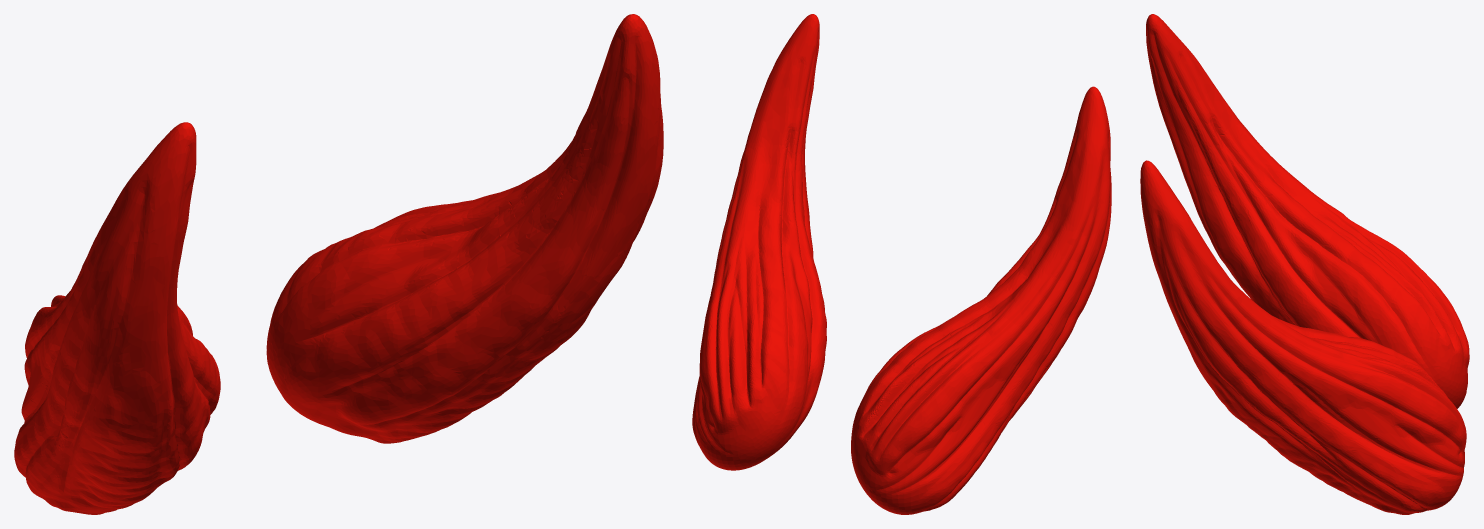
File: horns.glb
3 views of the same model, side by side, from view 1: azimuth 30°, elevation 25°; view 2: azimuth 150°, elevation 25°; view 3: azimuth 270°, elevation 25° (orthographic). The views are drawn at different scales.
Parts seen in each view (by area): view 1: TitanCraft Download (1).1; view 2: TitanCraft Download (1).1; view 3: TitanCraft Download (1).1.
Part boxes in pixels (x1=…): TitanCraft Download (1).1: x1=14, y1=14, x2=663, y2=514; TitanCraft Download (1).1: x1=692, y1=14, x2=1111, y2=514; TitanCraft Download (1).1: x1=1140, y1=14, x2=1469, y2=514.
Size of the model in its own units: 4.25 by 3.95 by 3.16.
